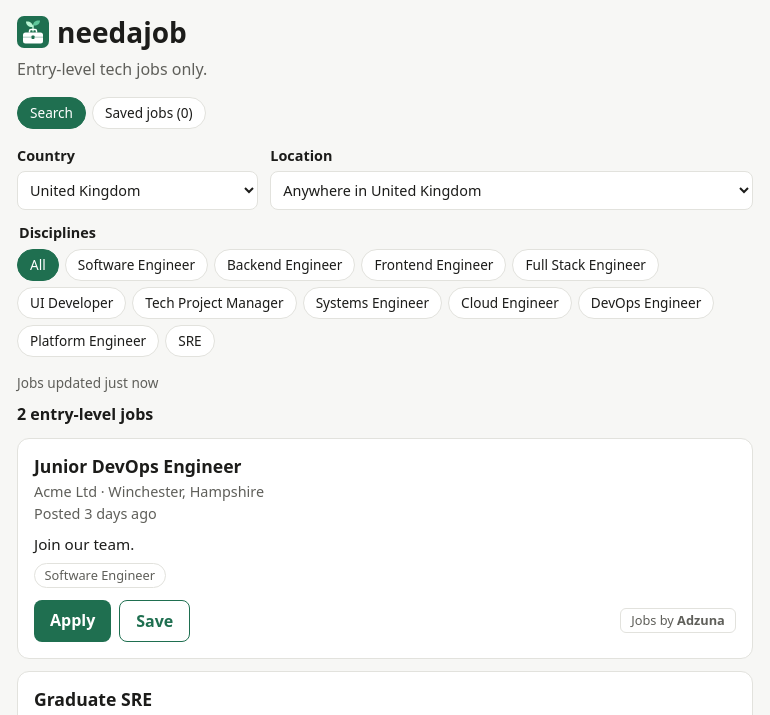
Test: Saved Jobs › saves a Job from the results and lists it with when it was saved
The width and height of the screenshot is (770, 715).
Click the button "Save".
click(155, 621)  # box x1=119 y1=600 x2=190 y2=642
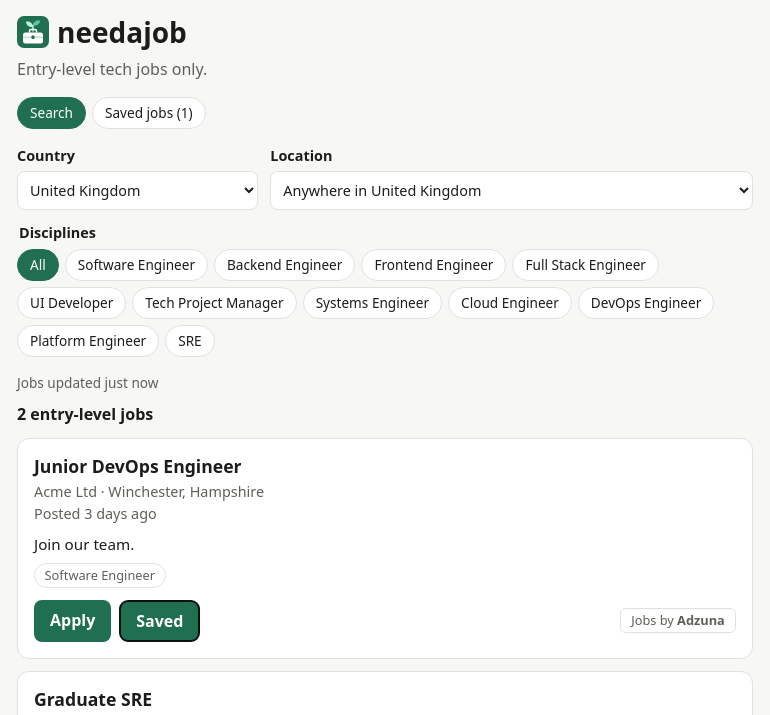
Now the button "Saved" is pressed, box x1=119 y1=600 x2=200 y2=642
Click the button "Saved jobs (1)".
click(149, 113)  # box x1=92 y1=97 x2=206 y2=129
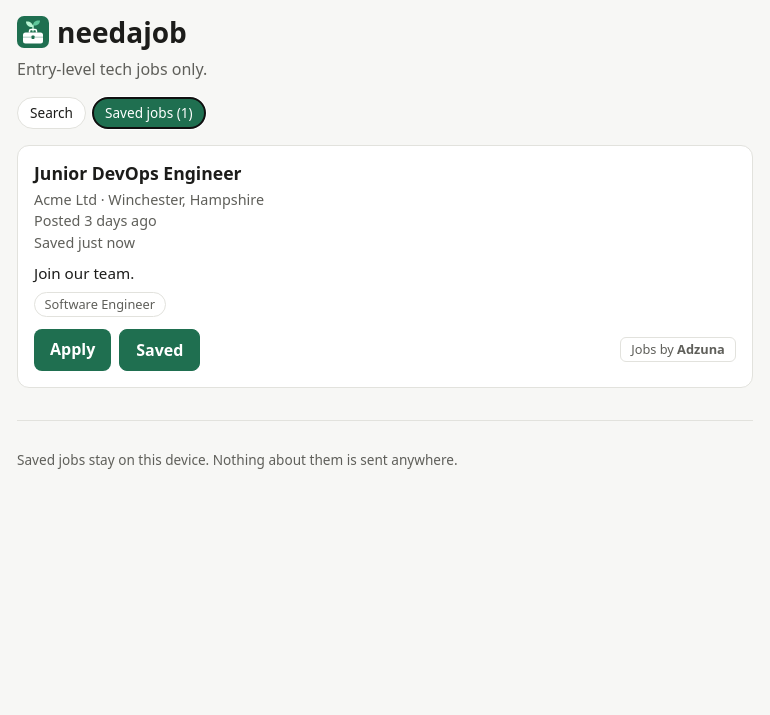
Now the text "Saved just now" is shown, box x1=34 y1=233 x2=135 y2=252
Now the heading "Graduate SRE" is gone
